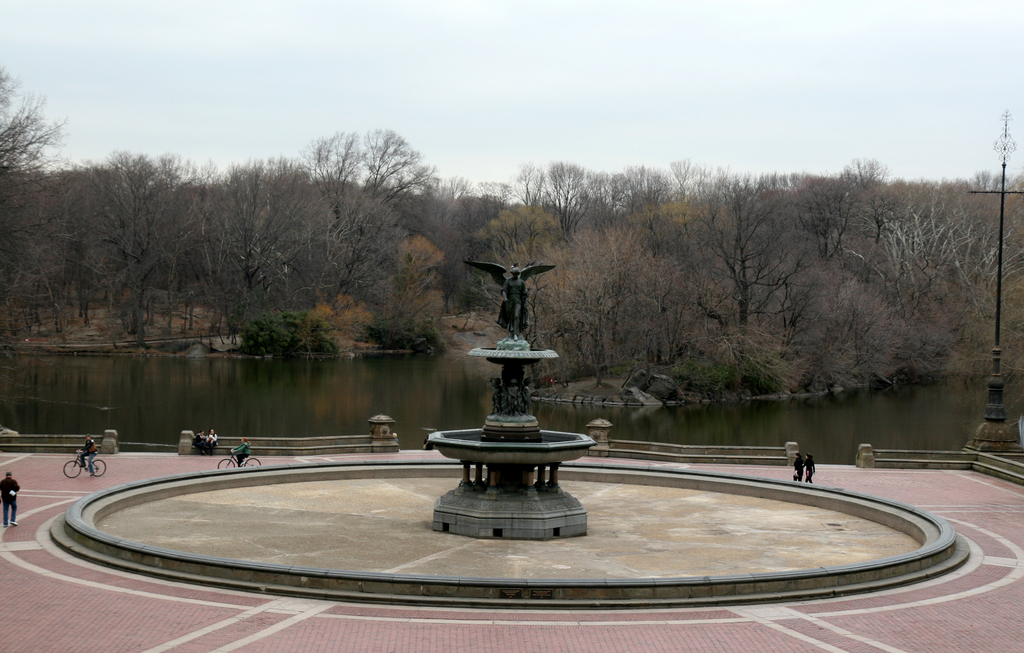Tree: (0, 135, 315, 345), (545, 215, 688, 387), (294, 122, 442, 250), (864, 190, 1002, 323), (692, 172, 793, 336), (433, 171, 516, 297), (0, 62, 74, 191), (806, 158, 872, 271), (474, 205, 561, 267), (602, 153, 668, 217), (545, 154, 591, 231), (512, 146, 554, 209), (659, 155, 688, 202)
